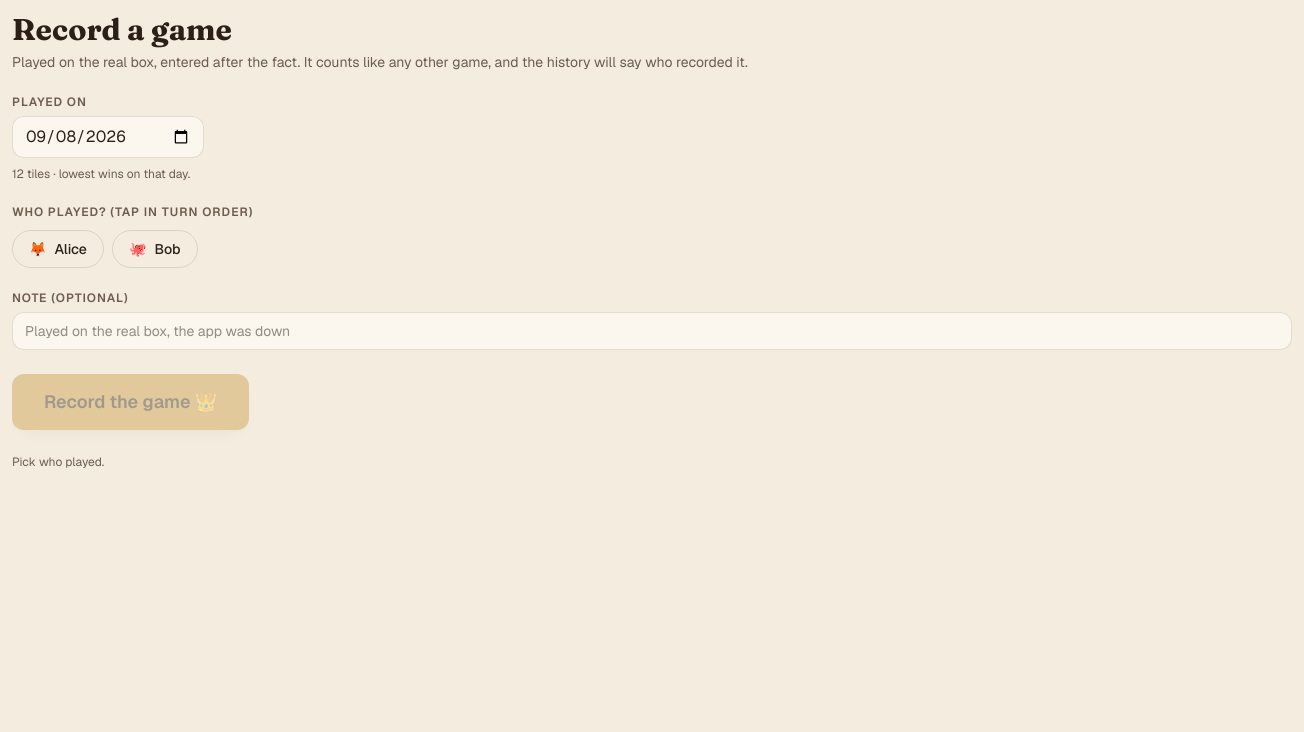
Test: RecordGameForm › shows the server's refusal and stays on the page
Click the button "🦊 Alice" at (58, 249), box [12,230,104,268]
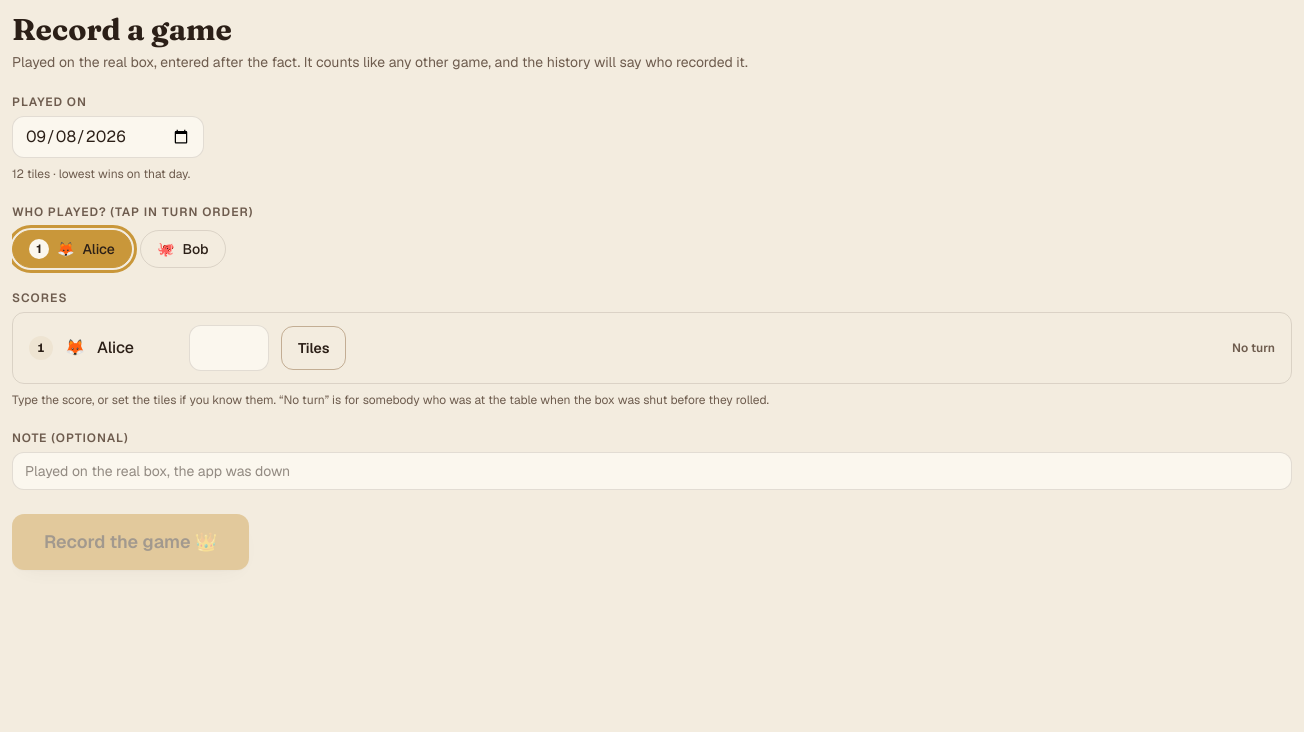
Type "4" into the number field named "Score for Alice" at (229, 348), box [189,325,269,371]
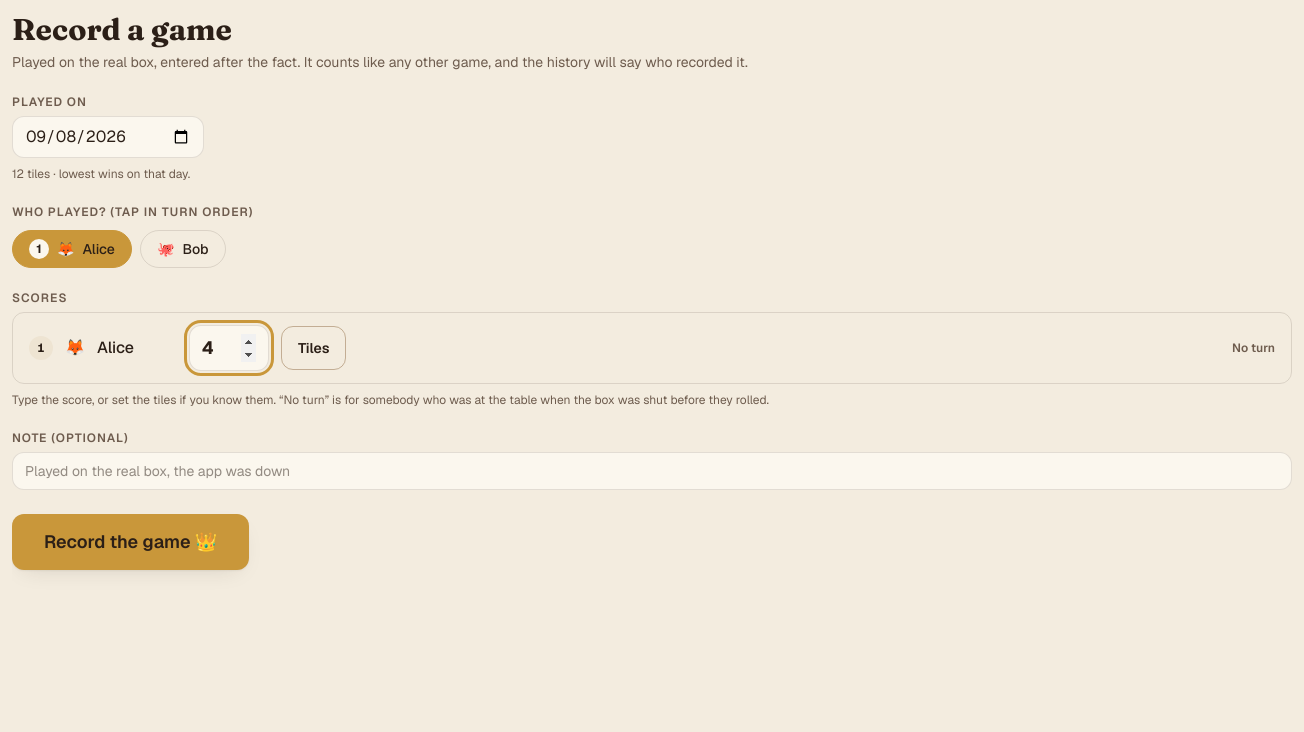
Click the button "Record the game 👑" at (131, 542), box [12,514,249,570]
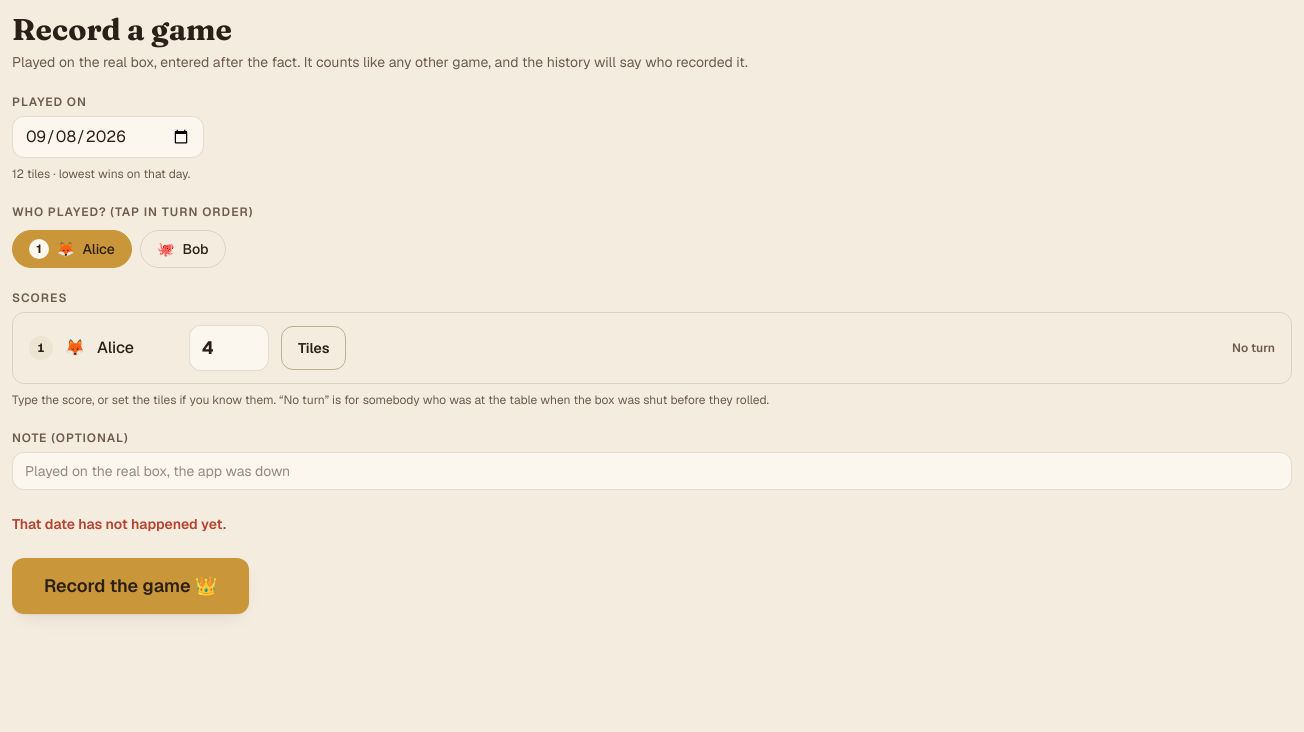
Check: the message reads "That date has not happened yet.", box [12,515,226,533]
